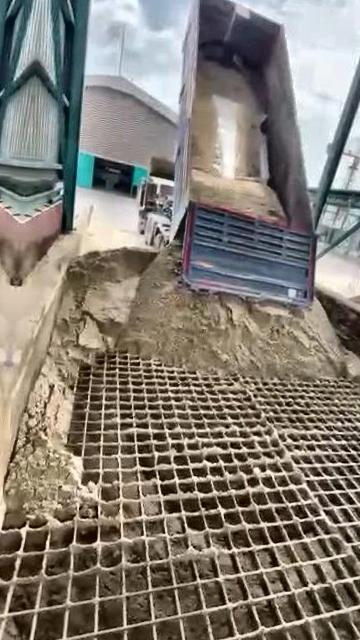sand: (7, 245, 352, 517), (193, 58, 253, 170), (208, 66, 266, 177), (191, 169, 283, 218), (345, 351, 360, 391), (355, 283, 360, 321)
